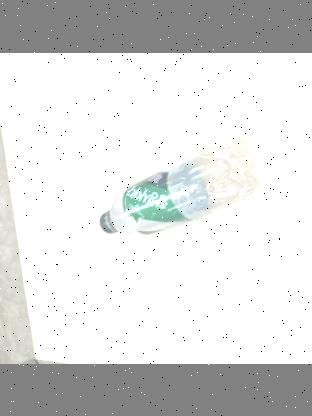Plastic Bottle: (94, 141, 260, 237)
